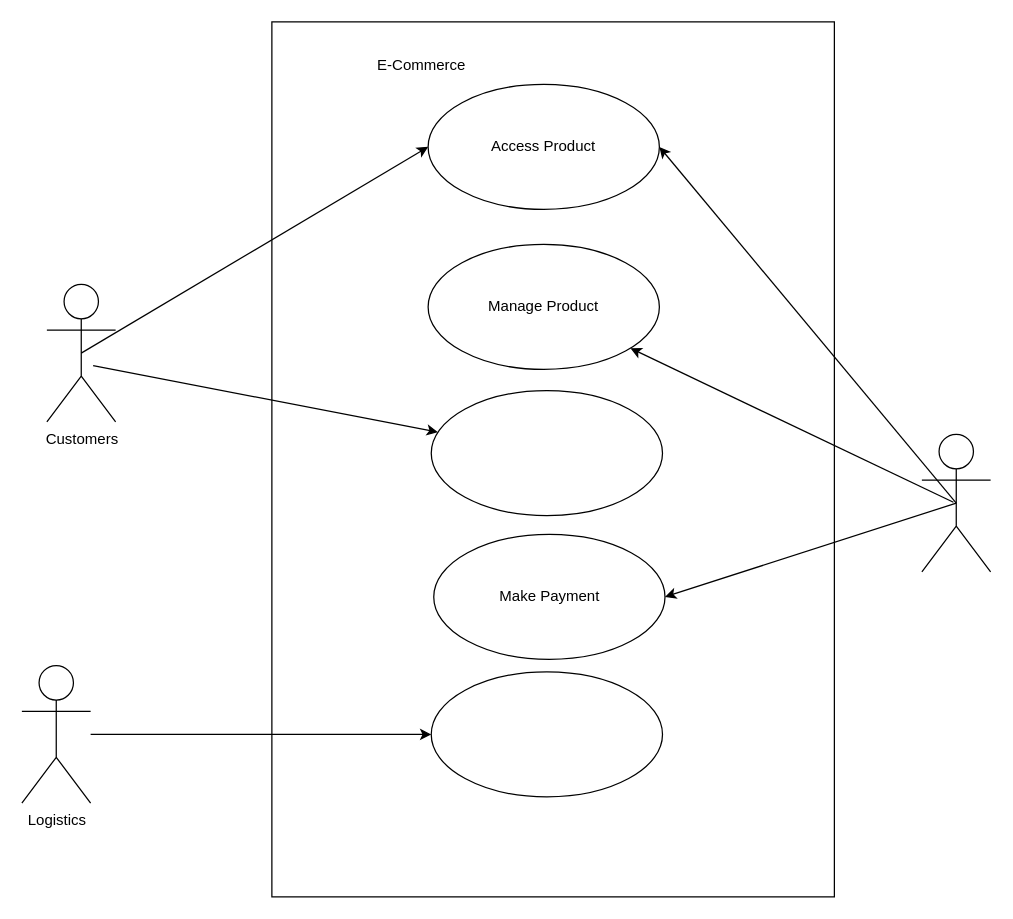
Some shapes in this 1013 by 919 pixel diagram are drawn without their labels. Here are the shapes that lost their labels. From the top down, the centre of each, then its label:
At (546,452): "Make Order".
At (956,502): "Sellers".
At (546,734): "Make delivery order".
